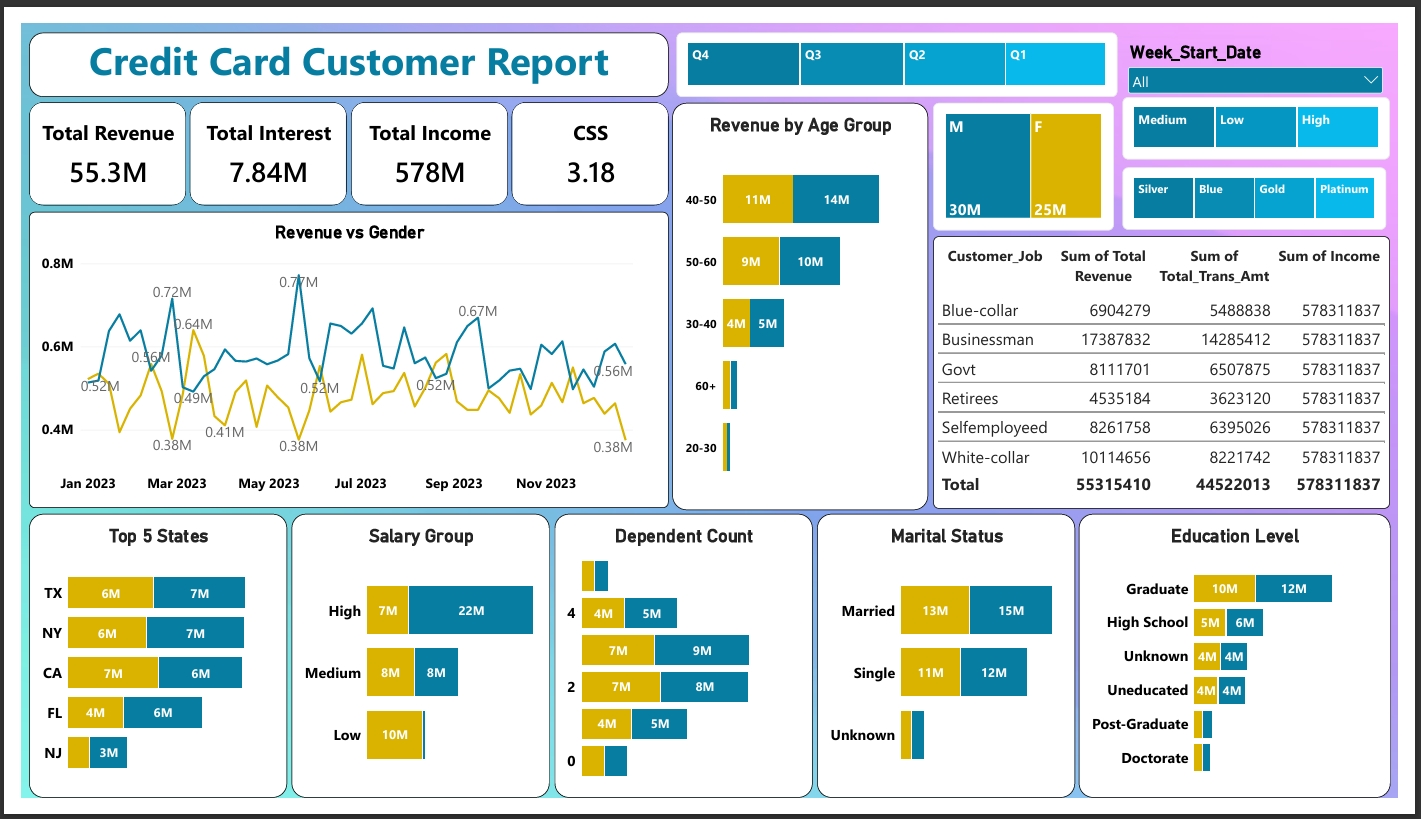

What the dashboard file says about the page in this screenshot:
{"tool":"powerbi","page":{"name":"Page 3","canvas":[1920,1080],"ordinal":2},"visuals":[{"type":"textbox","box":[10.9,12.7,892.2,90.5],"z":0},{"type":"barChart","title":"Top 5 States","fields":{"Y":["Sum(public cc_details.Total Revenue)"],"Category":["Customer.State_cd"],"Series":["Customer.Gender"]},"box":[10.9,684.1,360,396.3],"z":1000},{"type":"tableEx","fields":{"Values":["Customer.Customer_Job","Sum(public cc_details.Total Revenue)","Sum(public cc_details.Total_Trans_Amt)","Sum(public cust_detail.Income)"]},"box":[1272.2,296.8,637,380],"z":2000},{"type":"cardVisual","fields":{"Data":["Sum(public cc_details.Total Revenue)"]},"box":[10.9,110,219,144],"z":3000},{"type":"cardVisual","fields":{"Data":["Sum(public cc_details.Interest_Earned)"]},"box":[235.3,110.4,219,144],"z":4000},{"type":"cardVisual","fields":{"Data":["Sum(public cust_detail.Income)"]},"box":[459.7,110.4,219,144],"z":5000},{"type":"cardVisual","fields":{"Data":["Avg(public cust_detail.Cust_Satisfaction_Score)"]},"box":[684.1,110.4,219,144],"z":6000},{"type":"slicer","fields":{"Values":["public cc_details.Week_Start_Date"]},"box":[1523,12.7,397,99.5],"z":7000},{"type":"treemap","fields":{"Group":["public cc_details.Qtr"],"Values":["Avg(public cc_details.Client_Num)"]},"box":[914,12.7,615,90.5],"z":8000},{"type":"treemap","fields":{"Group":["public cc_details.Card_Category"],"Values":["Avg(public cc_details.Client_Num)"]},"box":[1536.4,200.9,367.4,86.9],"z":10000},{"type":"treemap","fields":{"Group":["Customer.IncomeGroup"],"Values":["Avg(Customer.Client_Num)"]},"box":[1536.4,103.2,372.8,86.9],"z":11000},{"type":"lineChart","title":"Revenue vs Gender","fields":{"Series":["Customer.Gender"],"Y":["Sum(public cc_details.Total Revenue)"],"Category":["public cc_details.Week_Start_Date.Variation.Date Hierarchy.Year","public cc_details.Week_Start_Date.Variation.Date Hierarchy.Month","public cc_details.Week_Start_Date.Variation.Date Hierarchy.Day"]},"box":[10.9,263,892.2,412.6],"z":12000},{"type":"treemap","fields":{"Group":["Customer.Gender"],"Values":["Sum(public cc_details.Total Revenue)"]},"box":[1272.2,111,251.5,178],"z":13000},{"type":"barChart","title":"Salary Group","fields":{"Y":["Sum(public cc_details.Total Revenue)"],"Category":["Customer.IncomeGroup"],"Series":["Customer.Gender"]},"box":[377,684.1,360,396.3],"z":14000},{"type":"barChart","title":"Dependent Count","fields":{"Y":["Sum(public cc_details.Total Revenue)"],"Category":["Customer.Dependent_Count"],"Series":["Customer.Gender"]},"box":[743.8,684.1,360,396.3],"z":15000},{"type":"barChart","title":"Marital Status","fields":{"Y":["Sum(public cc_details.Total Revenue)"],"Category":["Customer.Marital_Status"],"Series":["Customer.Gender"]},"box":[1110,684.1,360,396.3],"z":16000},{"type":"barChart","title":"Education Level","fields":{"Y":["Sum(public cc_details.Total Revenue)"],"Category":["Customer.Education_Level"],"Series":["Customer.Gender"]},"box":[1475,684.1,435,396.3],"z":17000},{"type":"barChart","title":"Revenue by Age Group","fields":{"Y":["Sum(public cc_details.Total Revenue)"],"Category":["Customer.AgeGroup"],"Series":["Customer.Gender"]},"box":[908,111,357,568.2],"z":18000}]}

Visuals, with their boxes in screenshot pixels (x1, y1, x2, y2), scaled from the page's 1920x1080 canvas onto the 1421x819 screenshot:
textbox: x1=8, y1=10, x2=668, y2=78
"Top 5 States" barChart: x1=8, y1=519, x2=275, y2=818
tableEx - Customer.Customer_Job x Sum(public cc_details.Total Revenue): x1=942, y1=225, x2=1413, y2=513
cardVisual - Sum(public cc_details.Total Revenue): x1=8, y1=83, x2=170, y2=193
cardVisual - Sum(public cc_details.Interest_Earned): x1=174, y1=84, x2=336, y2=193
cardVisual - Sum(public cust_detail.Income): x1=340, y1=84, x2=502, y2=193
cardVisual - Avg(public cust_detail.Cust_Satisfaction_Score): x1=506, y1=84, x2=668, y2=193
slicer - public cc_details.Week_Start_Date: x1=1127, y1=10, x2=1420, y2=85
treemap - public cc_details.Qtr x Avg(public cc_details.Client_Num): x1=676, y1=10, x2=1132, y2=78
treemap - public cc_details.Card_Category x Avg(public cc_details.Client_Num): x1=1137, y1=152, x2=1409, y2=218
treemap - Customer.IncomeGroup x Avg(Customer.Client_Num): x1=1137, y1=78, x2=1413, y2=144
"Revenue vs Gender" lineChart: x1=8, y1=199, x2=668, y2=512
treemap - Customer.Gender x Sum(public cc_details.Total Revenue): x1=942, y1=84, x2=1128, y2=219
"Salary Group" barChart: x1=279, y1=519, x2=545, y2=818
"Dependent Count" barChart: x1=550, y1=519, x2=817, y2=818
"Marital Status" barChart: x1=822, y1=519, x2=1088, y2=818
"Education Level" barChart: x1=1092, y1=519, x2=1414, y2=818
"Revenue by Age Group" barChart: x1=672, y1=84, x2=936, y2=515
